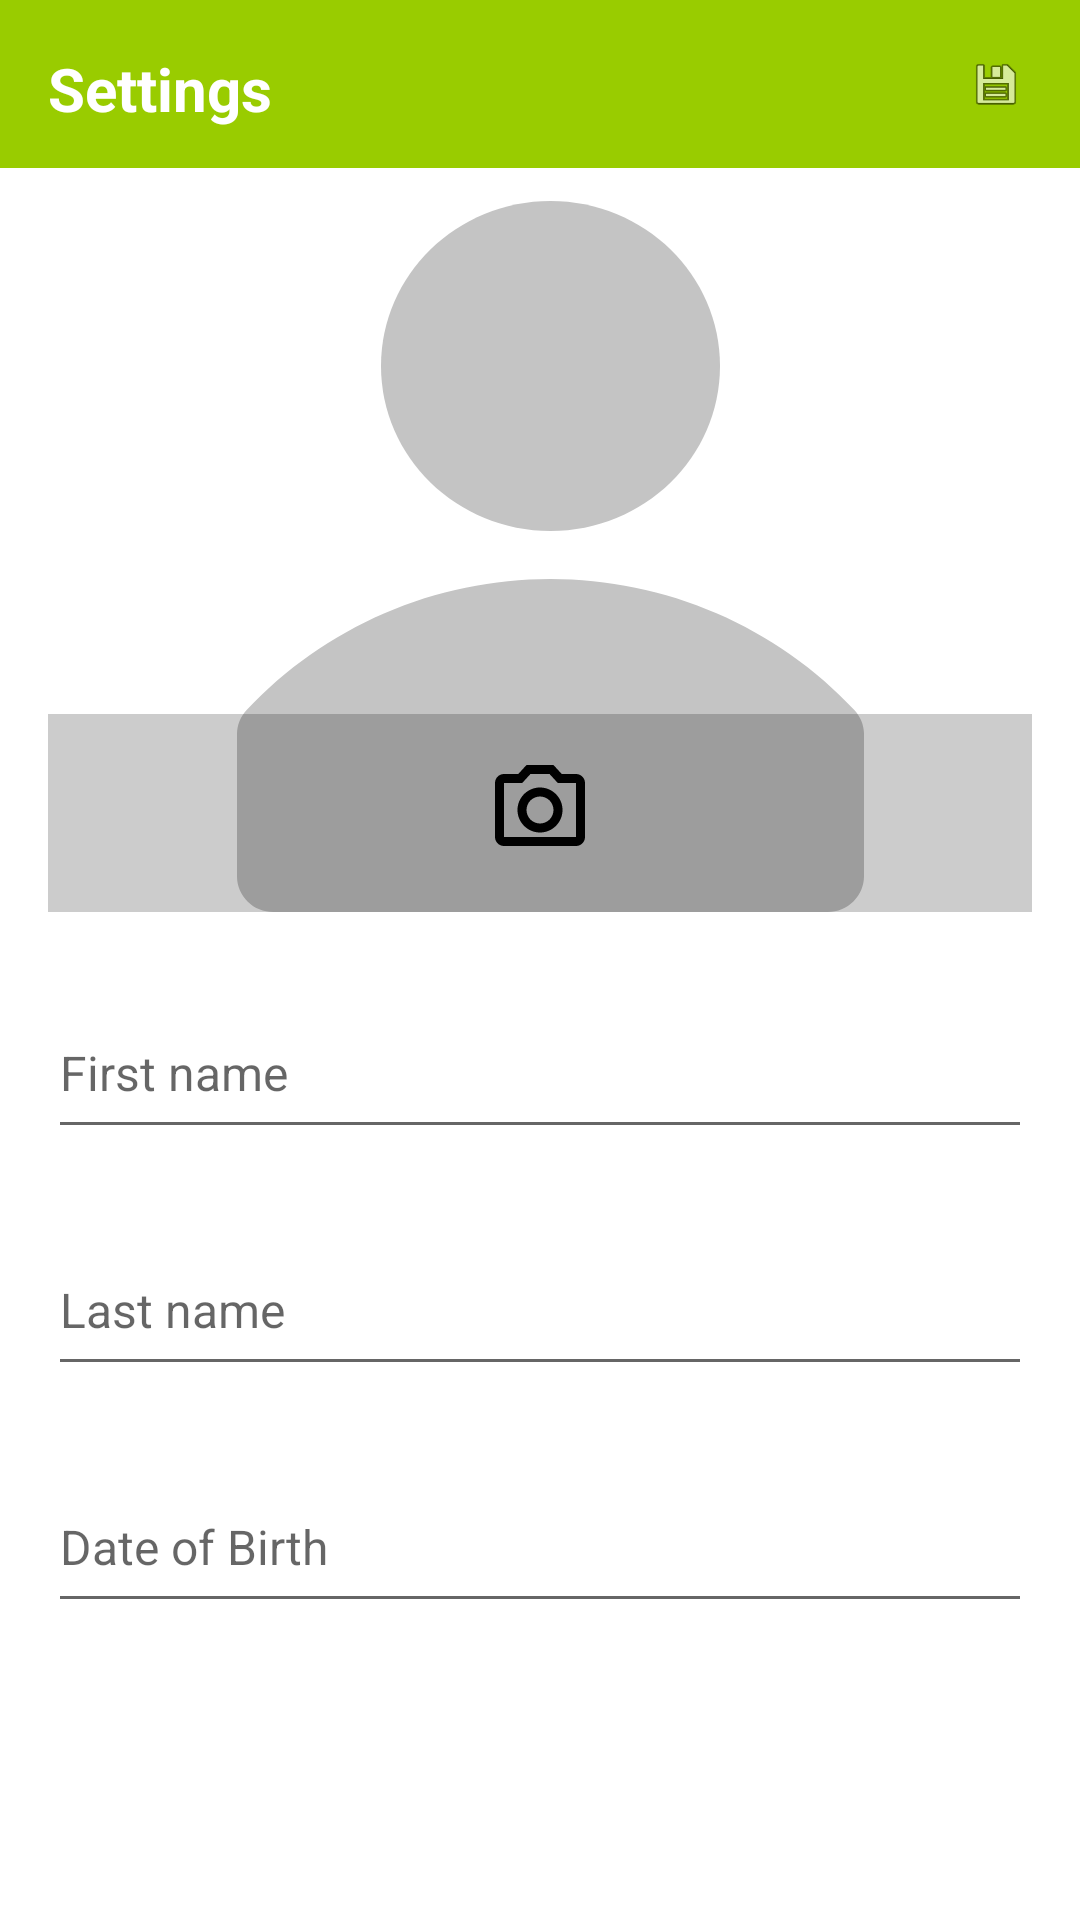

Where to tap for icons on this 1080*1920 app screen, as [x,y]:
save: [996,84]
